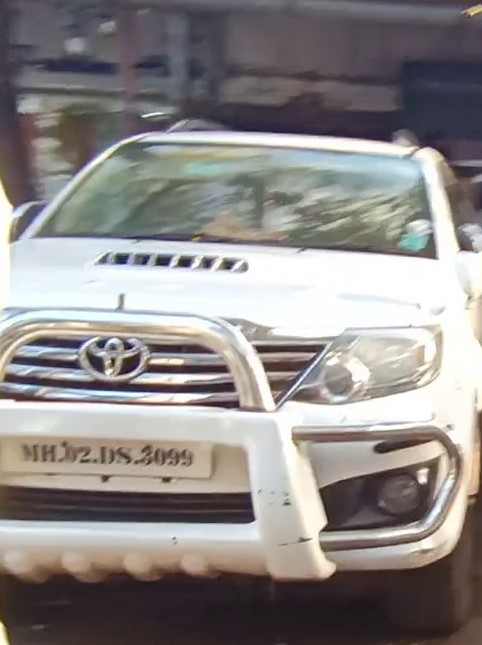MH02DS3099: (1, 439, 213, 480)
